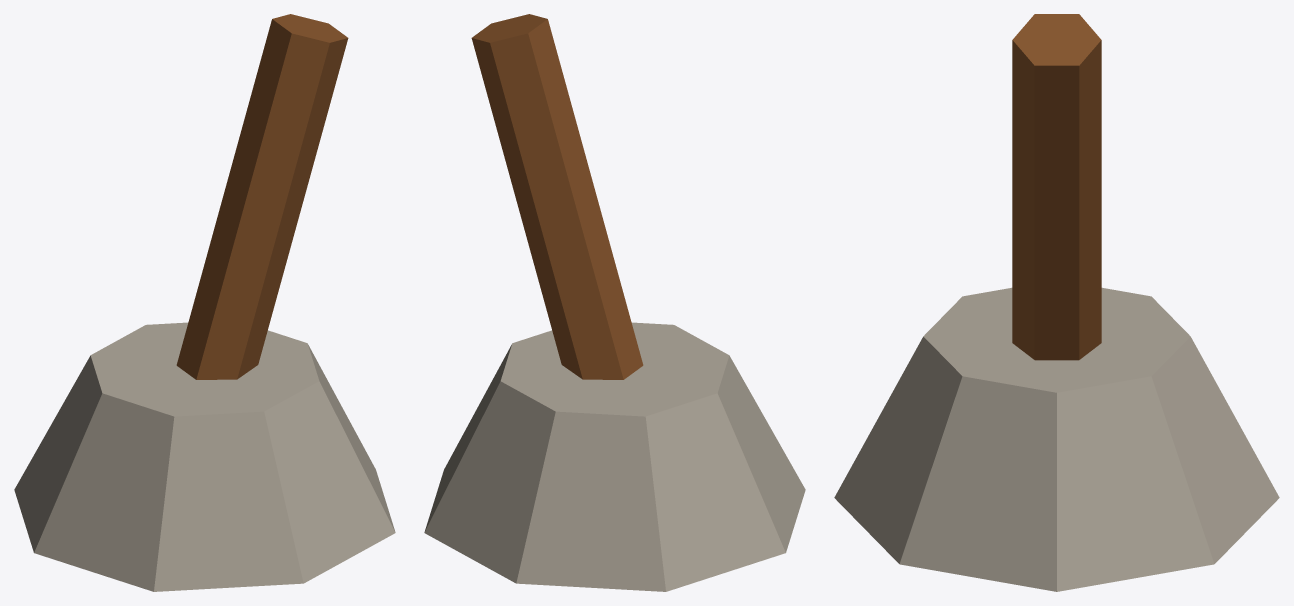
Rendered from mortar_pestle.glb.
The picture shows the model from 3 angles, left to right: view 1: azimuth 30°, elevation 25°; view 2: azimuth 150°, elevation 25°; view 3: azimuth 270°, elevation 25°; orthographic projection. The views are drawn at different scales.
Parts seen in each view (by area): view 1: mortar_pestle; view 2: mortar_pestle; view 3: mortar_pestle.
Part boxes in pixels (left/top/right/bottom): mortar_pestle: left=14, top=14, right=395, bottom=591; mortar_pestle: left=424, top=14, right=805, bottom=591; mortar_pestle: left=834, top=14, right=1279, bottom=591.
Size of the model in its own units: 0.5 by 0.6516 by 0.5.
